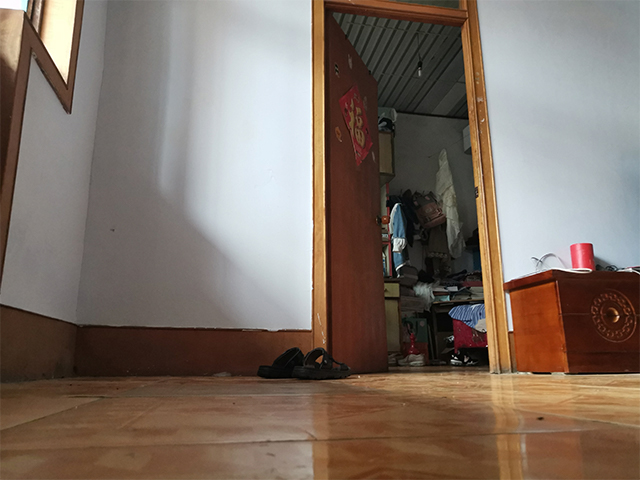cabinet: (501, 268, 640, 377)
slippers: (287, 347, 355, 382), (259, 348, 301, 381)
